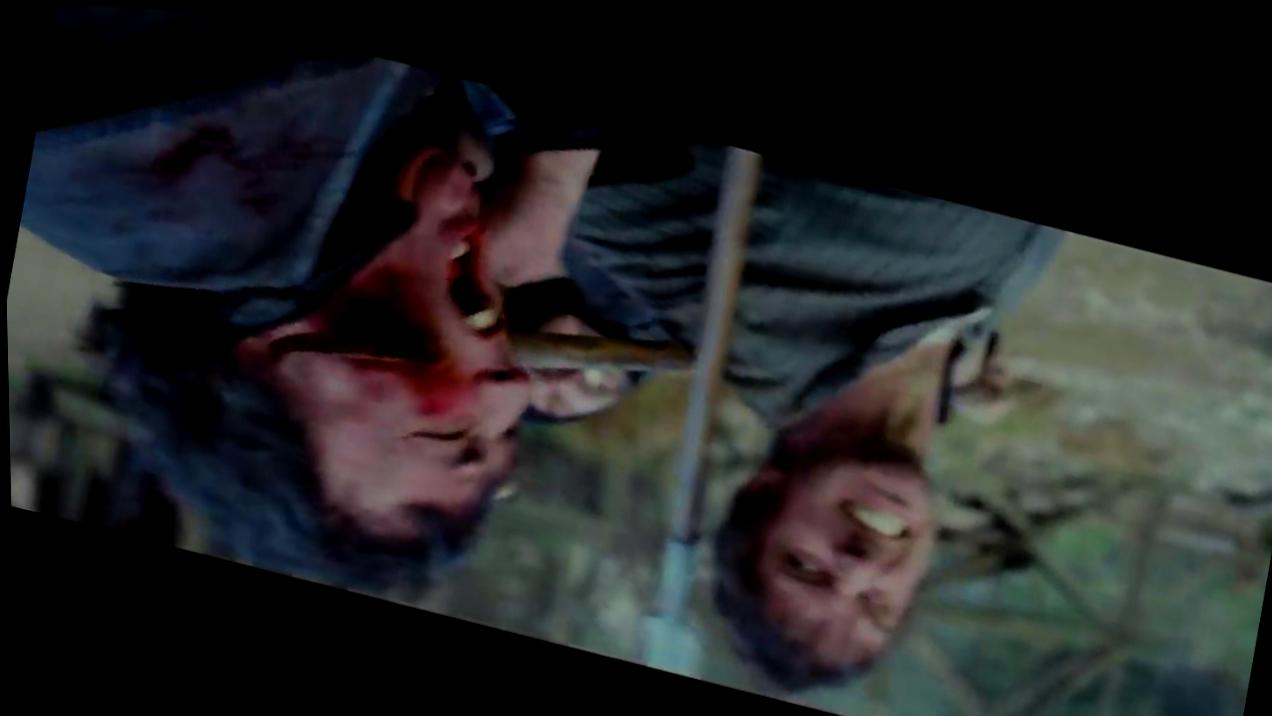Fire: (263, 263, 457, 410), (120, 122, 321, 209)
